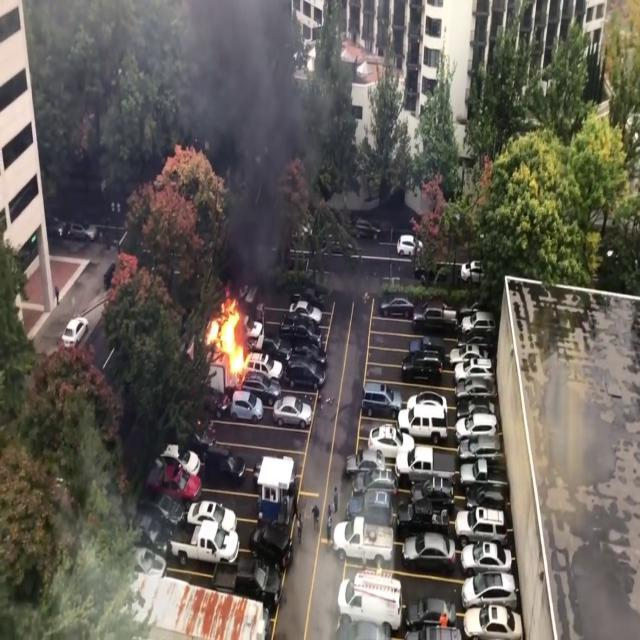Fire: (202, 294, 254, 378)
Smoke: (169, 0, 335, 277)
